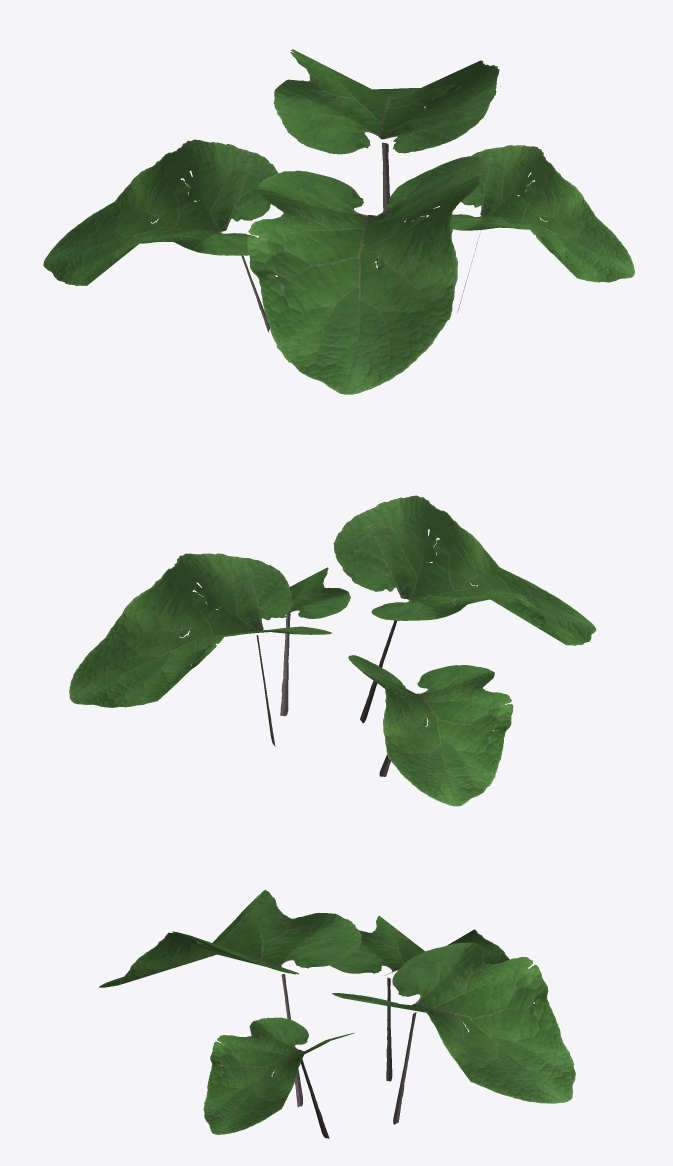
The model's file is ArctinumMinus.dae.
3 views of the same model, one above another, from view 1: azimuth 30°, elevation 25°; view 2: azimuth 150°, elevation 25°; view 3: azimuth 270°, elevation 25° (orthographic). The views are drawn at different scales.
Parts seen in each view (by area): view 1: Mesh; view 2: Mesh; view 3: Mesh.
Boxes of the visible parts, x1=… form: Mesh: x1=43, y1=49, x2=634, y2=394; Mesh: x1=69, y1=495, x2=596, y2=806; Mesh: x1=99, y1=889, x2=575, y2=1138.
Size of the model in its own units: 2.29 by 0.9046 by 2.45.
